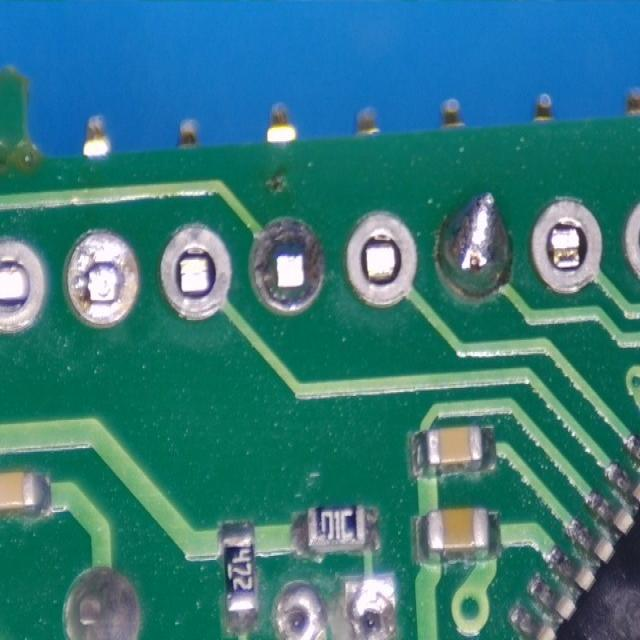Dry_joint: (439, 193, 509, 294), (253, 220, 323, 312), (68, 233, 137, 324)
